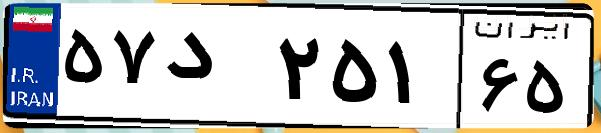1: (385, 28, 445, 110)
2: (270, 28, 330, 110)
5: (330, 28, 385, 110), (57, 26, 110, 100), (525, 38, 570, 115)
6: (475, 38, 525, 113)
7: (110, 28, 158, 98)
د: (158, 20, 270, 120)
